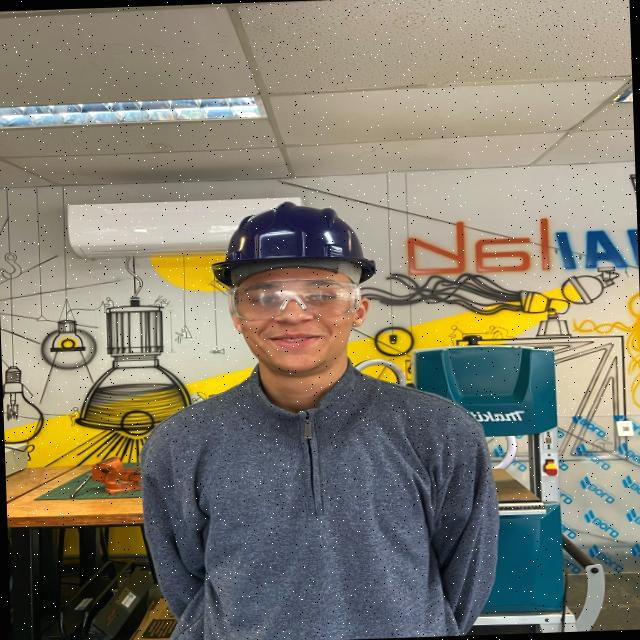CAPACETE: (207, 201, 377, 288)
OCULOS: (224, 278, 363, 322)
